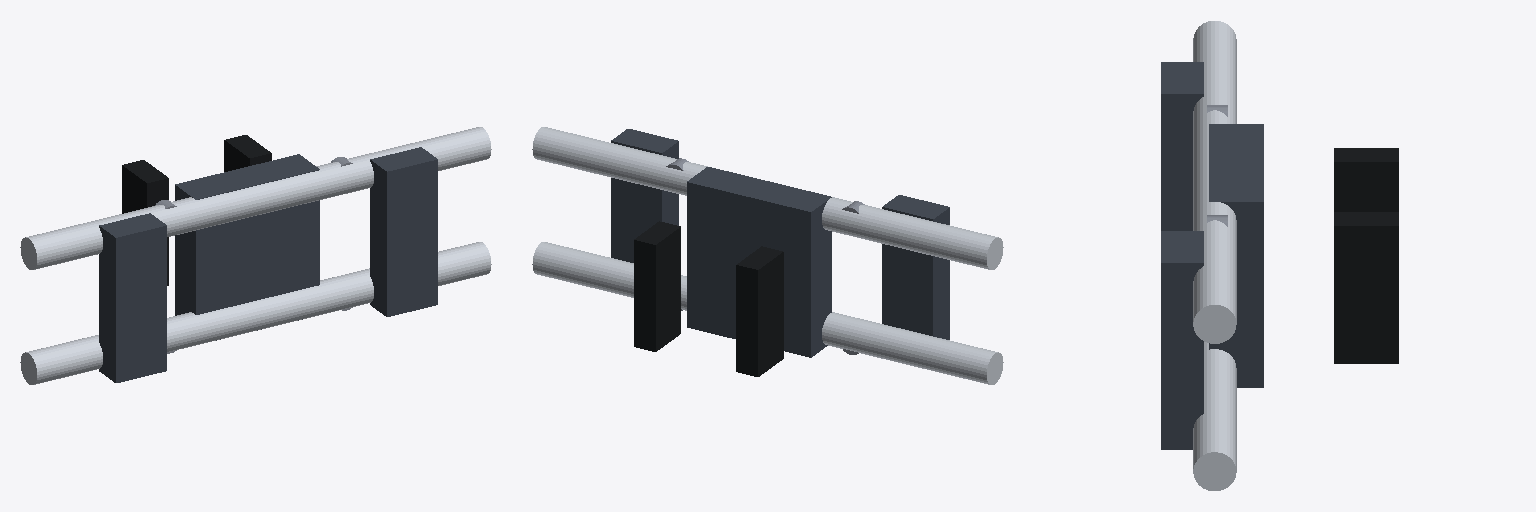
The robot description file, URDF, robot "opposed_twin_slide_gripper":
<robot name="opposed_twin_slide_gripper">
  <material name="body_dark">
    <color rgba="0.18 0.19 0.21 1" />
  </material>
  <material name="body_mid">
    <color rgba="0.3 0.33 0.37 1" />
  </material>
  <material name="jaw_alloy">
    <color rgba="0.7 0.72 0.75 1" />
  </material>
  <material name="guide_steel">
    <color rgba="0.82 0.84 0.87 1" />
  </material>
  <material name="fastener">
    <color rgba="0.56 0.58 0.62 1" />
  </material>
  <material name="grip_pad">
    <color rgba="0.14 0.15 0.16 1" />
  </material>
  <link name="body">
    <inertial>
      <origin xyz="0 -0.01 0" rpy="0 0 0" />
      <mass value="1.35" />
      <inertia ixx="0.00083745" ixy="0" ixz="0" iyy="0.0013572" iyz="0" izz="0.00138465" />
    </inertial>
    <visual>
      <geometry>
        <mesh filename="meshes/gripper_body.glb" />
      </geometry>
      <material name="body_dark" />
    </visual>
    <visual>
      <origin xyz="-0.024 0.0175 -0.016" rpy="1.5708 0 0" />
      <geometry>
        <cylinder radius="0.0032" length="0.004" />
      </geometry>
      <material name="fastener" />
    </visual>
    <visual>
      <origin xyz="-0.024 0.0175 0.016" rpy="1.5708 0 0" />
      <geometry>
        <cylinder radius="0.0032" length="0.004" />
      </geometry>
      <material name="fastener" />
    </visual>
    <visual>
      <origin xyz="0.024 0.0175 -0.016" rpy="1.5708 0 0" />
      <geometry>
        <cylinder radius="0.0032" length="0.004" />
      </geometry>
      <material name="fastener" />
    </visual>
    <visual>
      <origin xyz="0.024 0.0175 0.016" rpy="1.5708 0 0" />
      <geometry>
        <cylinder radius="0.0032" length="0.004" />
      </geometry>
      <material name="fastener" />
    </visual>
    <collision name="body__visual_1__hull_001">
      <geometry>
        <mesh filename="meshes/collision/cache/gripper_body__a0b934139ea70027__hull_001.obj" />
      </geometry>
    </collision>
    <collision name="body__visual_1__hull_002">
      <geometry>
        <mesh filename="meshes/collision/cache/gripper_body__a0b934139ea70027__hull_002.obj" />
      </geometry>
    </collision>
    <collision name="body__visual_1__hull_003">
      <geometry>
        <mesh filename="meshes/collision/cache/gripper_body__a0b934139ea70027__hull_003.obj" />
      </geometry>
    </collision>
    <collision name="body__visual_1__hull_004">
      <geometry>
        <mesh filename="meshes/collision/cache/gripper_body__a0b934139ea70027__hull_004.obj" />
      </geometry>
    </collision>
    <collision name="body__visual_1__hull_005">
      <geometry>
        <mesh filename="meshes/collision/cache/gripper_body__a0b934139ea70027__hull_005.obj" />
      </geometry>
    </collision>
    <collision name="body__visual_1__hull_006">
      <geometry>
        <mesh filename="meshes/collision/cache/gripper_body__a0b934139ea70027__hull_006.obj" />
      </geometry>
    </collision>
    <collision name="body__visual_1__hull_007">
      <geometry>
        <mesh filename="meshes/collision/cache/gripper_body__a0b934139ea70027__hull_007.obj" />
      </geometry>
    </collision>
    <collision name="body__visual_1__hull_008">
      <geometry>
        <mesh filename="meshes/collision/cache/gripper_body__a0b934139ea70027__hull_008.obj" />
      </geometry>
    </collision>
    <collision name="body__visual_1__hull_009">
      <geometry>
        <mesh filename="meshes/collision/cache/gripper_body__a0b934139ea70027__hull_009.obj" />
      </geometry>
    </collision>
    <collision name="body__visual_1__hull_010">
      <geometry>
        <mesh filename="meshes/collision/cache/gripper_body__a0b934139ea70027__hull_010.obj" />
      </geometry>
    </collision>
    <collision name="body__visual_1__hull_011">
      <geometry>
        <mesh filename="meshes/collision/cache/gripper_body__a0b934139ea70027__hull_011.obj" />
      </geometry>
    </collision>
    <collision name="body__visual_1__hull_012">
      <geometry>
        <mesh filename="meshes/collision/cache/gripper_body__a0b934139ea70027__hull_012.obj" />
      </geometry>
    </collision>
    <collision name="body__visual_1__hull_013">
      <geometry>
        <mesh filename="meshes/collision/cache/gripper_body__a0b934139ea70027__hull_013.obj" />
      </geometry>
    </collision>
    <collision name="body__visual_1__hull_014">
      <geometry>
        <mesh filename="meshes/collision/cache/gripper_body__a0b934139ea70027__hull_014.obj" />
      </geometry>
    </collision>
    <collision name="body__visual_1__hull_015">
      <geometry>
        <mesh filename="meshes/collision/cache/gripper_body__a0b934139ea70027__hull_015.obj" />
      </geometry>
    </collision>
    <collision name="body__visual_1__hull_016">
      <geometry>
        <mesh filename="meshes/collision/cache/gripper_body__a0b934139ea70027__hull_016.obj" />
      </geometry>
    </collision>
    <collision name="body__visual_2">
      <origin xyz="-0.024 0.0175 -0.016" rpy="1.5708 0 0" />
      <geometry>
        <cylinder radius="0.0032" length="0.004" />
      </geometry>
    </collision>
    <collision name="body__visual_3">
      <origin xyz="-0.024 0.0175 0.016" rpy="1.5708 0 0" />
      <geometry>
        <cylinder radius="0.0032" length="0.004" />
      </geometry>
    </collision>
    <collision name="body__visual_4">
      <origin xyz="0.024 0.0175 -0.016" rpy="1.5708 0 0" />
      <geometry>
        <cylinder radius="0.0032" length="0.004" />
      </geometry>
    </collision>
    <collision name="body__visual_5">
      <origin xyz="0.024 0.0175 0.016" rpy="1.5708 0 0" />
      <geometry>
        <cylinder radius="0.0032" length="0.004" />
      </geometry>
    </collision>
  </link>
  <link name="guide_rails">
    <inertial>
      <origin xyz="0 -0.001 0" rpy="0 0 0" />
      <mass value="0.22" />
      <inertia ixx="3.96733e-05" ixy="0" ixz="0" iyy="0.000314233" iyz="0" izz="0.000289227" />
    </inertial>
    <visual>
      <origin xyz="0 0.004 0" rpy="0 0 0" />
      <geometry>
        <box size="0.034 0.01 0.038" />
      </geometry>
      <material name="body_mid" />
    </visual>
    <visual>
      <origin xyz="-0.037 -0.006 0" rpy="0 0 0" />
      <geometry>
        <box size="0.014 0.008 0.038" />
      </geometry>
      <material name="body_mid" />
    </visual>
    <visual>
      <origin xyz="0.037 -0.006 0" rpy="0 0 0" />
      <geometry>
        <box size="0.014 0.008 0.038" />
      </geometry>
      <material name="body_mid" />
    </visual>
    <visual>
      <origin xyz="0 0 -0.015" rpy="0 1.5708 0" />
      <geometry>
        <cylinder radius="0.004" length="0.124" />
      </geometry>
      <material name="guide_steel" />
    </visual>
    <visual>
      <origin xyz="0 0 0.015" rpy="0 1.5708 0" />
      <geometry>
        <cylinder radius="0.004" length="0.124" />
      </geometry>
      <material name="guide_steel" />
    </visual>
    <collision name="guide_rails__visual_1">
      <origin xyz="0 0.004 0" rpy="0 0 0" />
      <geometry>
        <box size="0.034 0.01 0.038" />
      </geometry>
    </collision>
    <collision name="guide_rails__visual_2">
      <origin xyz="-0.037 -0.006 0" rpy="0 0 0" />
      <geometry>
        <box size="0.014 0.008 0.038" />
      </geometry>
    </collision>
    <collision name="guide_rails__visual_3">
      <origin xyz="0.037 -0.006 0" rpy="0 0 0" />
      <geometry>
        <box size="0.014 0.008 0.038" />
      </geometry>
    </collision>
    <collision name="guide_rails__visual_4">
      <origin xyz="0 0 -0.015" rpy="0 1.5708 0" />
      <geometry>
        <cylinder radius="0.004" length="0.124" />
      </geometry>
    </collision>
    <collision name="guide_rails__visual_5">
      <origin xyz="0 0 0.015" rpy="0 1.5708 0" />
      <geometry>
        <cylinder radius="0.004" length="0.124" />
      </geometry>
    </collision>
  </link>
  <link name="left_jaw">
    <inertial>
      <origin xyz="0 0.024 0" rpy="0 0 0" />
      <mass value="0.24" />
      <inertia ixx="9.608e-05" ixy="0" ixz="0" iyy="8.136e-05" iyz="0" izz="8.528e-05" />
    </inertial>
    <visual>
      <geometry>
        <mesh filename="meshes/left_jaw.glb" />
      </geometry>
      <material name="jaw_alloy" />
    </visual>
    <visual>
      <origin xyz="0.023 0.028 0" rpy="0 0 0" />
      <geometry>
        <box size="0.006 0.012 0.028" />
      </geometry>
      <material name="grip_pad" />
    </visual>
    <collision name="left_jaw__visual_1__hull_001">
      <geometry>
        <mesh filename="meshes/collision/cache/left_jaw__ce2d297e210ab94a__hull_001.obj" />
      </geometry>
    </collision>
    <collision name="left_jaw__visual_1__hull_002">
      <geometry>
        <mesh filename="meshes/collision/cache/left_jaw__ce2d297e210ab94a__hull_002.obj" />
      </geometry>
    </collision>
    <collision name="left_jaw__visual_1__hull_003">
      <geometry>
        <mesh filename="meshes/collision/cache/left_jaw__ce2d297e210ab94a__hull_003.obj" />
      </geometry>
    </collision>
    <collision name="left_jaw__visual_1__hull_004">
      <geometry>
        <mesh filename="meshes/collision/cache/left_jaw__ce2d297e210ab94a__hull_004.obj" />
      </geometry>
    </collision>
    <collision name="left_jaw__visual_1__hull_005">
      <geometry>
        <mesh filename="meshes/collision/cache/left_jaw__ce2d297e210ab94a__hull_005.obj" />
      </geometry>
    </collision>
    <collision name="left_jaw__visual_1__hull_006">
      <geometry>
        <mesh filename="meshes/collision/cache/left_jaw__ce2d297e210ab94a__hull_006.obj" />
      </geometry>
    </collision>
    <collision name="left_jaw__visual_1__hull_007">
      <geometry>
        <mesh filename="meshes/collision/cache/left_jaw__ce2d297e210ab94a__hull_007.obj" />
      </geometry>
    </collision>
    <collision name="left_jaw__visual_1__hull_008">
      <geometry>
        <mesh filename="meshes/collision/cache/left_jaw__ce2d297e210ab94a__hull_008.obj" />
      </geometry>
    </collision>
    <collision name="left_jaw__visual_1__hull_009">
      <geometry>
        <mesh filename="meshes/collision/cache/left_jaw__ce2d297e210ab94a__hull_009.obj" />
      </geometry>
    </collision>
    <collision name="left_jaw__visual_1__hull_010">
      <geometry>
        <mesh filename="meshes/collision/cache/left_jaw__ce2d297e210ab94a__hull_010.obj" />
      </geometry>
    </collision>
    <collision name="left_jaw__visual_1__hull_011">
      <geometry>
        <mesh filename="meshes/collision/cache/left_jaw__ce2d297e210ab94a__hull_011.obj" />
      </geometry>
    </collision>
    <collision name="left_jaw__visual_1__hull_012">
      <geometry>
        <mesh filename="meshes/collision/cache/left_jaw__ce2d297e210ab94a__hull_012.obj" />
      </geometry>
    </collision>
    <collision name="left_jaw__visual_1__hull_013">
      <geometry>
        <mesh filename="meshes/collision/cache/left_jaw__ce2d297e210ab94a__hull_013.obj" />
      </geometry>
    </collision>
    <collision name="left_jaw__visual_1__hull_014">
      <geometry>
        <mesh filename="meshes/collision/cache/left_jaw__ce2d297e210ab94a__hull_014.obj" />
      </geometry>
    </collision>
    <collision name="left_jaw__visual_1__hull_015">
      <geometry>
        <mesh filename="meshes/collision/cache/left_jaw__ce2d297e210ab94a__hull_015.obj" />
      </geometry>
    </collision>
    <collision name="left_jaw__visual_1__hull_016">
      <geometry>
        <mesh filename="meshes/collision/cache/left_jaw__ce2d297e210ab94a__hull_016.obj" />
      </geometry>
    </collision>
    <collision name="left_jaw__visual_2">
      <origin xyz="0.023 0.028 0" rpy="0 0 0" />
      <geometry>
        <box size="0.006 0.012 0.028" />
      </geometry>
    </collision>
  </link>
  <link name="right_jaw">
    <inertial>
      <origin xyz="0 0.024 0" rpy="0 0 0" />
      <mass value="0.24" />
      <inertia ixx="9.608e-05" ixy="0" ixz="0" iyy="8.136e-05" iyz="0" izz="8.528e-05" />
    </inertial>
    <visual>
      <geometry>
        <mesh filename="meshes/right_jaw.glb" />
      </geometry>
      <material name="jaw_alloy" />
    </visual>
    <visual>
      <origin xyz="-0.023 0.028 0" rpy="0 0 0" />
      <geometry>
        <box size="0.006 0.012 0.028" />
      </geometry>
      <material name="grip_pad" />
    </visual>
    <collision name="right_jaw__visual_1__hull_001">
      <geometry>
        <mesh filename="meshes/collision/cache/right_jaw__b3fd8252a7c120b3__hull_001.obj" />
      </geometry>
    </collision>
    <collision name="right_jaw__visual_1__hull_002">
      <geometry>
        <mesh filename="meshes/collision/cache/right_jaw__b3fd8252a7c120b3__hull_002.obj" />
      </geometry>
    </collision>
    <collision name="right_jaw__visual_1__hull_003">
      <geometry>
        <mesh filename="meshes/collision/cache/right_jaw__b3fd8252a7c120b3__hull_003.obj" />
      </geometry>
    </collision>
    <collision name="right_jaw__visual_1__hull_004">
      <geometry>
        <mesh filename="meshes/collision/cache/right_jaw__b3fd8252a7c120b3__hull_004.obj" />
      </geometry>
    </collision>
    <collision name="right_jaw__visual_1__hull_005">
      <geometry>
        <mesh filename="meshes/collision/cache/right_jaw__b3fd8252a7c120b3__hull_005.obj" />
      </geometry>
    </collision>
    <collision name="right_jaw__visual_1__hull_006">
      <geometry>
        <mesh filename="meshes/collision/cache/right_jaw__b3fd8252a7c120b3__hull_006.obj" />
      </geometry>
    </collision>
    <collision name="right_jaw__visual_1__hull_007">
      <geometry>
        <mesh filename="meshes/collision/cache/right_jaw__b3fd8252a7c120b3__hull_007.obj" />
      </geometry>
    </collision>
    <collision name="right_jaw__visual_1__hull_008">
      <geometry>
        <mesh filename="meshes/collision/cache/right_jaw__b3fd8252a7c120b3__hull_008.obj" />
      </geometry>
    </collision>
    <collision name="right_jaw__visual_1__hull_009">
      <geometry>
        <mesh filename="meshes/collision/cache/right_jaw__b3fd8252a7c120b3__hull_009.obj" />
      </geometry>
    </collision>
    <collision name="right_jaw__visual_1__hull_010">
      <geometry>
        <mesh filename="meshes/collision/cache/right_jaw__b3fd8252a7c120b3__hull_010.obj" />
      </geometry>
    </collision>
    <collision name="right_jaw__visual_1__hull_011">
      <geometry>
        <mesh filename="meshes/collision/cache/right_jaw__b3fd8252a7c120b3__hull_011.obj" />
      </geometry>
    </collision>
    <collision name="right_jaw__visual_1__hull_012">
      <geometry>
        <mesh filename="meshes/collision/cache/right_jaw__b3fd8252a7c120b3__hull_012.obj" />
      </geometry>
    </collision>
    <collision name="right_jaw__visual_1__hull_013">
      <geometry>
        <mesh filename="meshes/collision/cache/right_jaw__b3fd8252a7c120b3__hull_013.obj" />
      </geometry>
    </collision>
    <collision name="right_jaw__visual_1__hull_014">
      <geometry>
        <mesh filename="meshes/collision/cache/right_jaw__b3fd8252a7c120b3__hull_014.obj" />
      </geometry>
    </collision>
    <collision name="right_jaw__visual_1__hull_015">
      <geometry>
        <mesh filename="meshes/collision/cache/right_jaw__b3fd8252a7c120b3__hull_015.obj" />
      </geometry>
    </collision>
    <collision name="right_jaw__visual_1__hull_016">
      <geometry>
        <mesh filename="meshes/collision/cache/right_jaw__b3fd8252a7c120b3__hull_016.obj" />
      </geometry>
    </collision>
    <collision name="right_jaw__visual_2">
      <origin xyz="-0.023 0.028 0" rpy="0 0 0" />
      <geometry>
        <box size="0.006 0.012 0.028" />
      </geometry>
    </collision>
  </link>
  <joint name="body_to_guide_rails" type="fixed">
    <origin xyz="0 0.017 0" rpy="0 0 0" />
    <parent link="body" />
    <child link="guide_rails" />
  </joint>
  <joint name="left_slide" type="prismatic">
    <origin xyz="-0.037 0 0" rpy="0 0 0" />
    <parent link="guide_rails" />
    <child link="left_jaw" />
    <axis xyz="-1 0 0" />
    <limit effort="120" velocity="0.2" lower="0" upper="0.018" />
  </joint>
  <joint name="right_slide" type="prismatic">
    <origin xyz="0.037 0 0" rpy="0 0 0" />
    <parent link="guide_rails" />
    <child link="right_jaw" />
    <axis xyz="1 0 0" />
    <limit effort="120" velocity="0.2" lower="0" upper="0.018" />
  </joint>
</robot>

--- Render facts (derived) ---
The picture shows the robot from 3 angles, left to right: view 1: azimuth 30°, elevation 25°; view 2: azimuth 150°, elevation 25°; view 3: azimuth 270°, elevation 25°; orthographic projection.
Robot: opposed_twin_slide_gripper — 4 links, 3 joints (2 prismatic, 1 fixed); root link body; default pose: all joints at 0.
Visible links, largest first — view 1: guide_rails, left_jaw, right_jaw; view 2: guide_rails, left_jaw, right_jaw; view 3: guide_rails, right_jaw, left_jaw.
Link boxes in pixels (left/top/right/bottom): guide_rails: left=20, top=127, right=491, bottom=384; left_jaw: left=122, top=160, right=168, bottom=285; right_jaw: left=224, top=135, right=271, bottom=171; guide_rails: left=532, top=127, right=1003, bottom=384; left_jaw: left=736, top=246, right=783, bottom=376; right_jaw: left=634, top=221, right=680, bottom=351; guide_rails: left=1161, top=21, right=1263, bottom=490; right_jaw: left=1334, top=212, right=1398, bottom=363; left_jaw: left=1334, top=148, right=1398, bottom=211.
Bounding box of the posed robot: 0.124 × 0.044 × 0.0384 m (x, y, z).
Meshes: 3 distinct files referenced, 0 mesh visuals loaded (none loaded); not drawn: 3 (reference not matched to a file when rendering).
